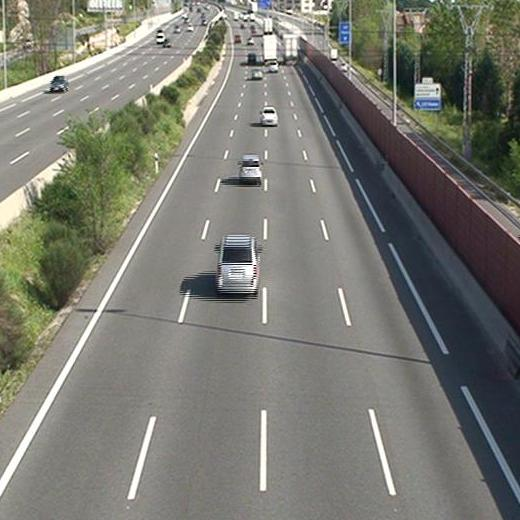car: (216, 237, 259, 292), (238, 156, 261, 182), (261, 107, 276, 126), (251, 69, 263, 80), (268, 62, 279, 72), (247, 53, 255, 62)
truck: (283, 35, 297, 65), (262, 35, 277, 61)
